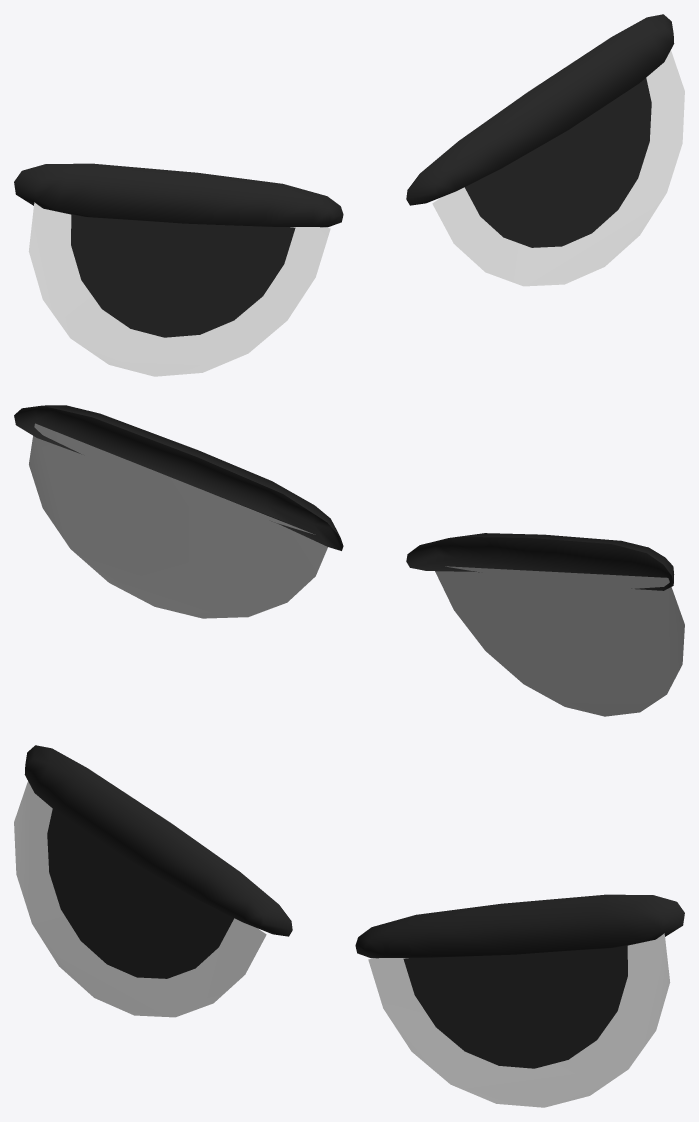
Rendered from eye_5.fbx.
3 views of the same model, one above another, from view 1: azimuth 30°, elevation 25°; view 2: azimuth 150°, elevation 25°; view 3: azimuth 330°, elevation 25° (orthographic).
Parts seen in each view (by area): view 1: eye_5; view 2: eye_5; view 3: eye_5.
Boxes of the visible parts, x1,y1,x2,y2 form: eye_5: (14,14,684,376); eye_5: (14,405,684,716); eye_5: (14,745,684,1107).
Size of the model in its own units: 0.9662 by 0.2954 by 0.111.
